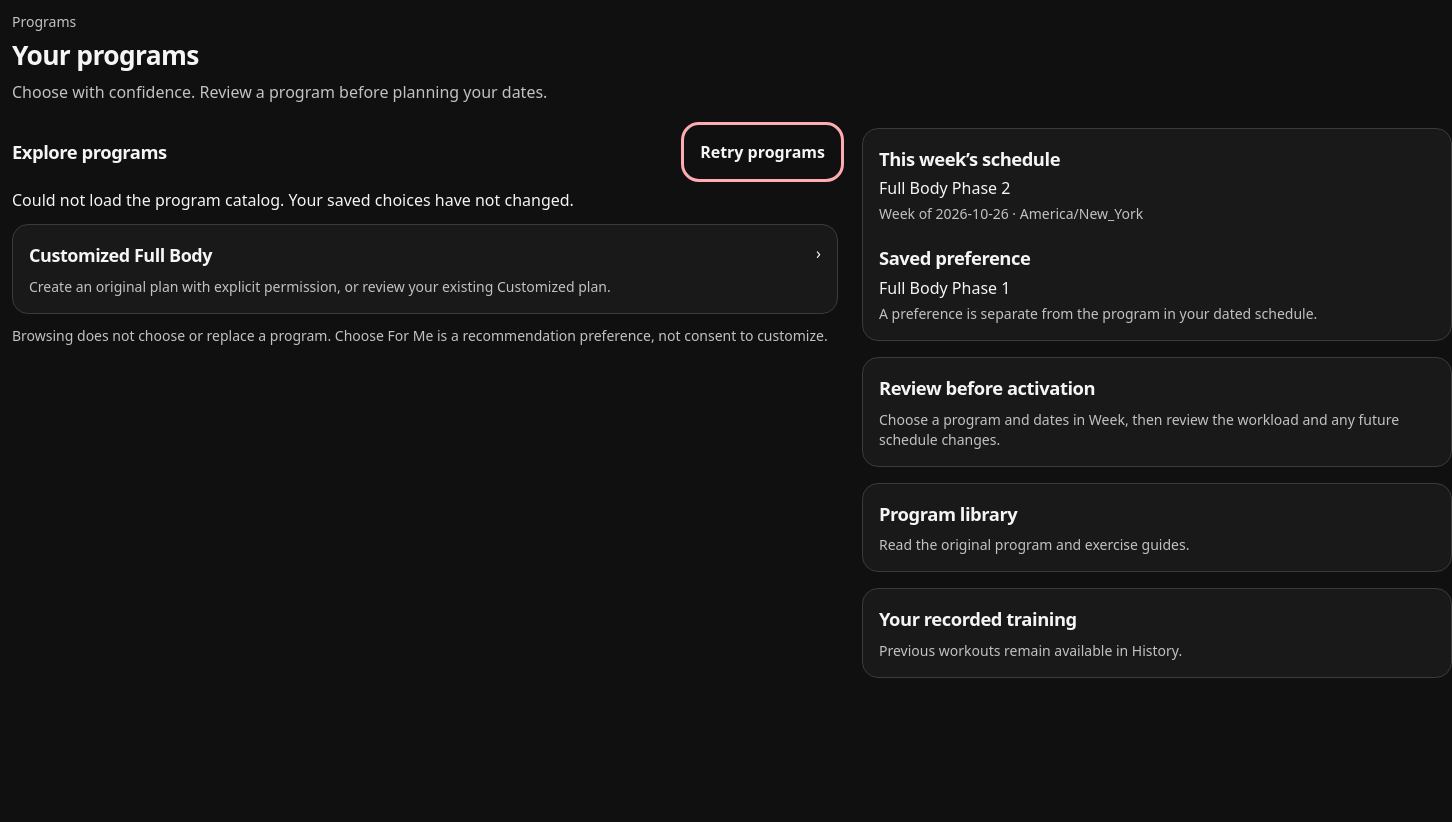
catalog failure is distinct from empty and retry preserves a usable focused control
This screenshot has width=1452, height=822.
Click the button "Retry programs" at coordinates (763, 152), box top-left (687, 128), bottom-right (838, 176)
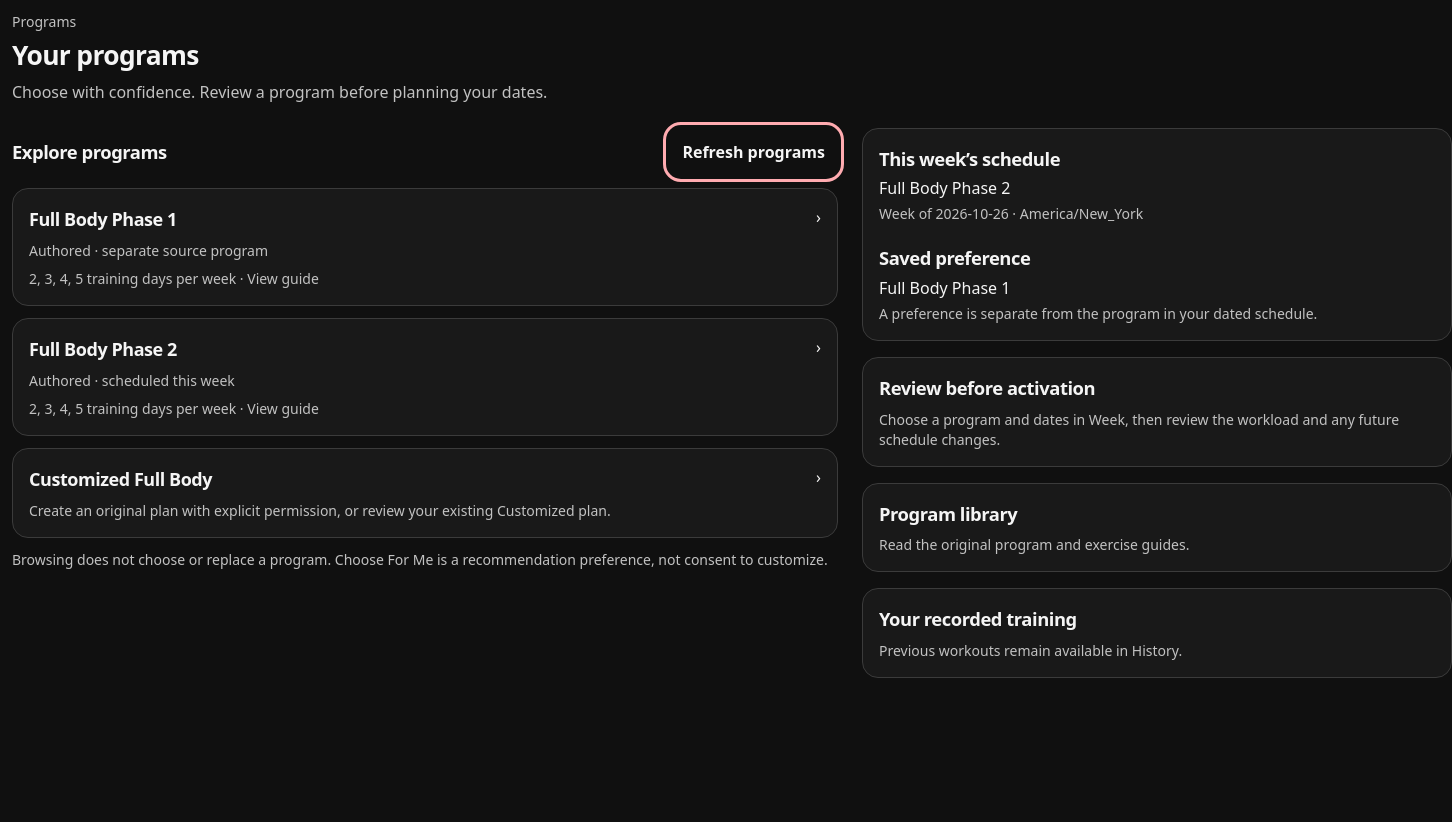
Now the link with aria-label "View Full Body Phase 1 guide" is shown, box top-left (12, 188), bottom-right (838, 306)
